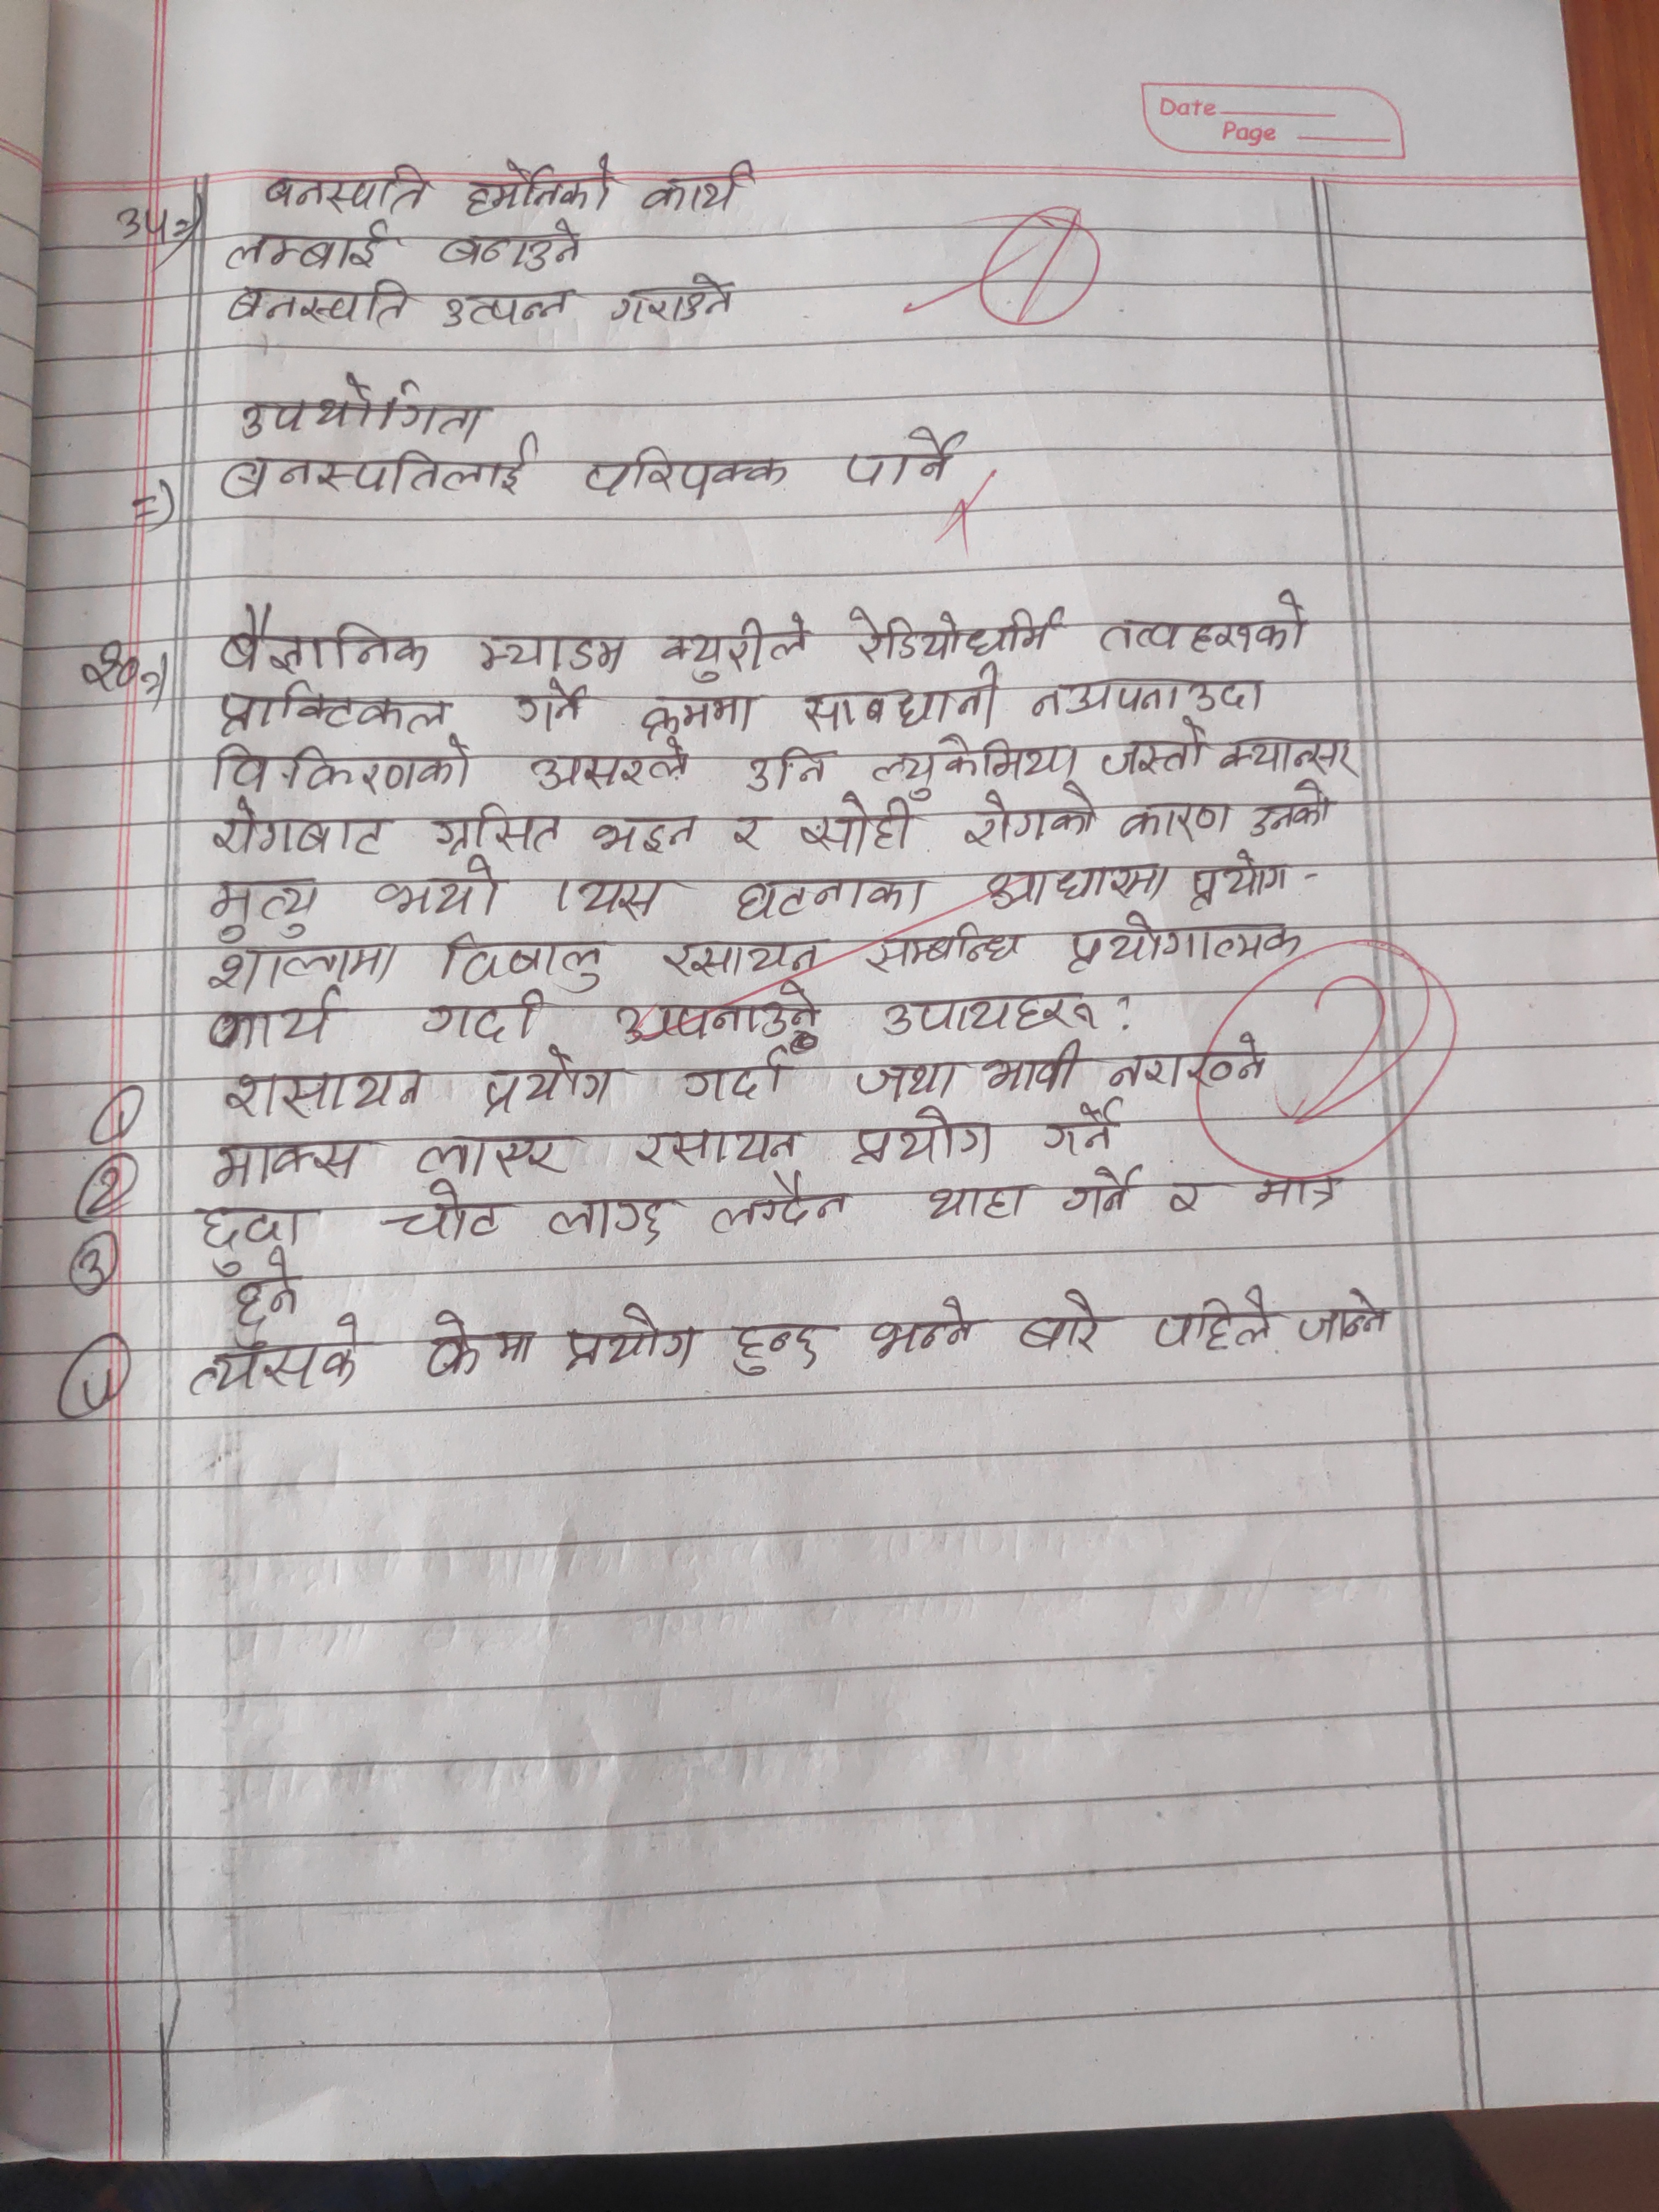text: (220, 439, 552, 502), (234, 371, 491, 446), (220, 592, 430, 676), (192, 1310, 369, 1402), (197, 738, 481, 796), (1098, 585, 1312, 660), (606, 982, 826, 1054), (1061, 904, 1302, 968), (868, 730, 1080, 796), (800, 671, 1004, 737), (849, 603, 1068, 664), (875, 982, 1105, 1040), (580, 442, 795, 503), (655, 606, 816, 686), (209, 686, 453, 737), (1026, 671, 1269, 721), (213, 1066, 436, 1120), (207, 798, 392, 859), (443, 928, 617, 993), (847, 1101, 1004, 1172), (734, 867, 931, 923), (972, 860, 1175, 914), (706, 1172, 856, 1244), (458, 155, 620, 219), (561, 1305, 701, 1379), (857, 920, 1028, 979), (479, 1045, 622, 1115), (526, 737, 697, 794), (1105, 1031, 1276, 1089), (957, 787, 1105, 853), (1150, 1284, 1279, 1359), (230, 277, 415, 329), (371, 853, 511, 921), (420, 1306, 540, 1385), (861, 1294, 985, 1367), (202, 871, 317, 949), (836, 421, 962, 493), (256, 165, 439, 214), (202, 1139, 376, 1190), (202, 991, 343, 1052), (660, 930, 830, 981), (436, 219, 587, 275), (223, 221, 396, 270), (427, 275, 573, 333), (406, 1136, 584, 1183), (603, 265, 737, 326), (415, 984, 549, 1045), (206, 946, 401, 988), (430, 798, 566, 857), (786, 796, 925, 853), (486, 622, 626, 678), (535, 1188, 674, 1244), (620, 1123, 805, 1165), (390, 1183, 512, 1245), (976, 1036, 1100, 1097), (1223, 730, 1366, 782), (197, 1198, 301, 1270), (1098, 716, 1211, 780), (720, 1313, 830, 1379), (228, 1252, 303, 1348), (1012, 1285, 1108, 1359), (1300, 1284, 1396, 1357), (681, 1049, 795, 1108), (638, 688, 756, 744), (1249, 772, 1340, 843), (1180, 855, 1293, 911), (640, 162, 758, 212), (1115, 796, 1239, 843), (1060, 1163, 1152, 1226), (852, 1055, 964, 1104), (587, 812, 701, 859), (739, 744, 836, 796), (917, 1183, 1033, 1226), (572, 871, 669, 921), (1039, 1101, 1126, 1155), (514, 678, 592, 735), (1249, 1169, 1345, 1214), (1169, 1176, 1218, 1226), (727, 803, 770, 853)
